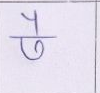ai_matra: (22, 11, 43, 35)
